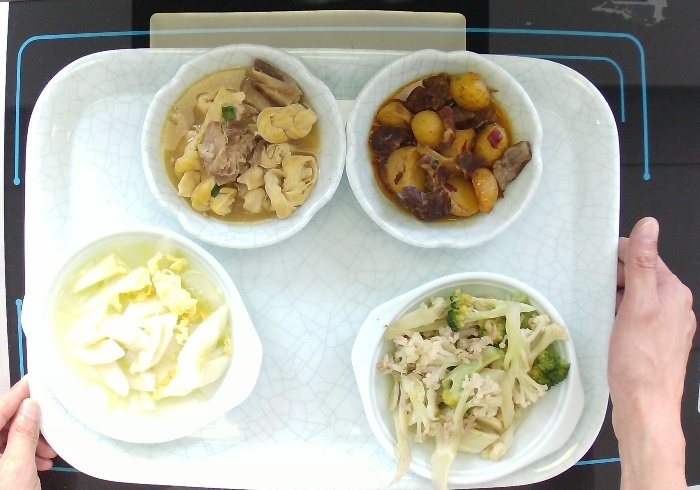JYsf-Ao_Yuan_Wan: (138, 41, 350, 253), (343, 46, 548, 253)
JYsf-Shuang_Er_Pan: (21, 219, 267, 450), (346, 266, 590, 490)
